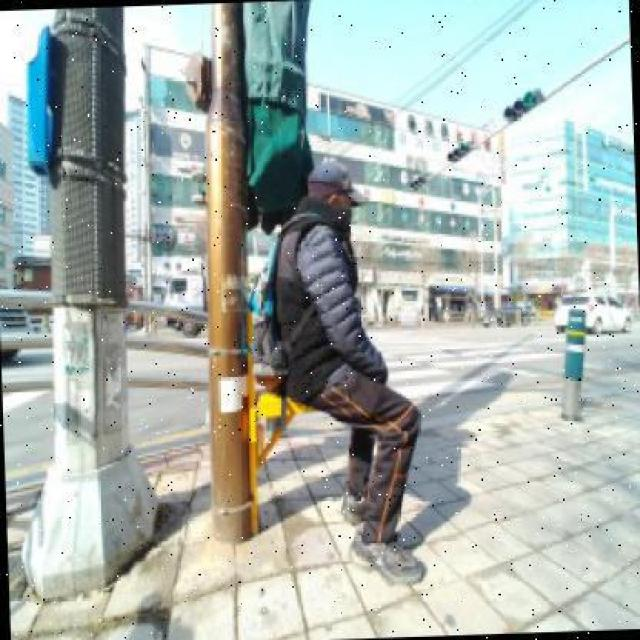Person: (240, 160, 428, 585)
